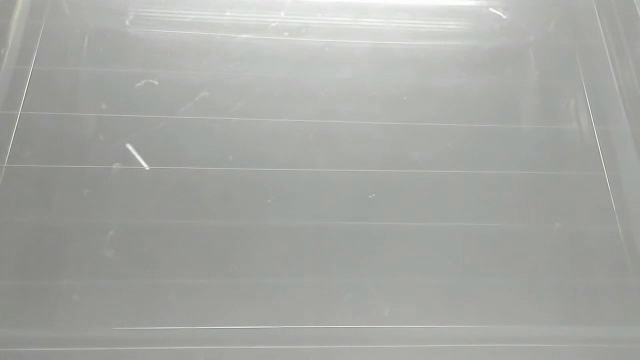alpha: (122, 140, 152, 174), (483, 3, 510, 22)
